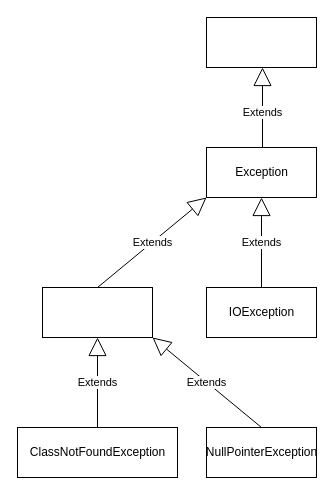
Image size: 334x495. Some labels were removed from this diagram. The centre of each missing label's shape, as x and y in pixels:
RuntimeException: [97,312]
Throwable: [261,42]
